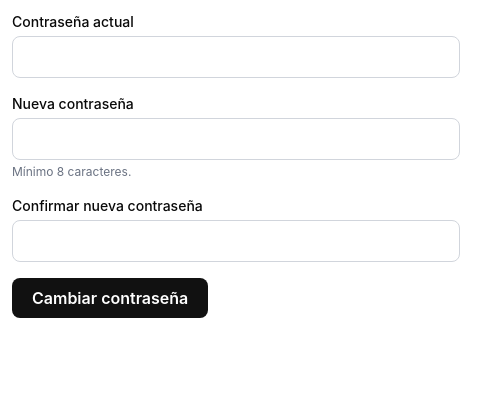
Test case: ChangePasswordForm › todo correcto: confirma el cierre de las demás sesiones
Type "contraseña-vieja" into the password field labelled "Contraseña actual".
click(236, 57); type("contraseña-vieja")  # box [12,36,460,78]
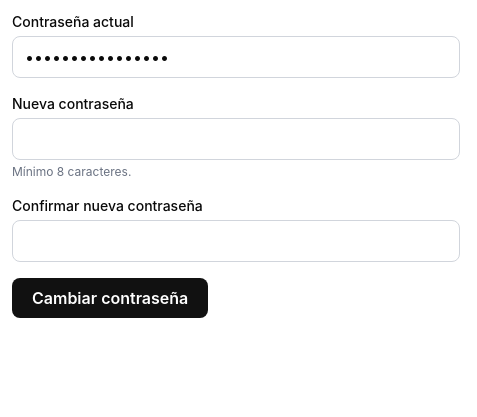
Type "contraseña-nueva-123" into the password field labelled "Nueva contraseña".
click(236, 139); type("contraseña-nueva-123")  # box [12,118,460,160]
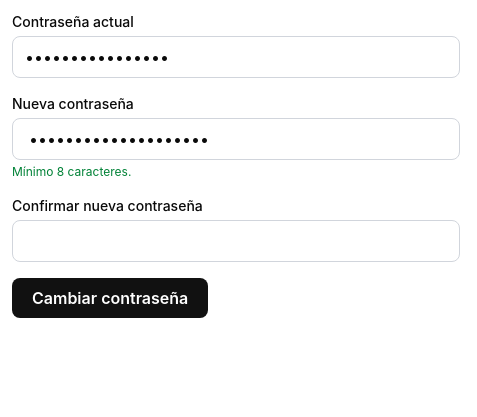
Type "contraseña-nueva-123" into the password field labelled "Confirmar nueva contraseña".
click(236, 241); type("contraseña-nueva-123")  # box [12,220,460,262]
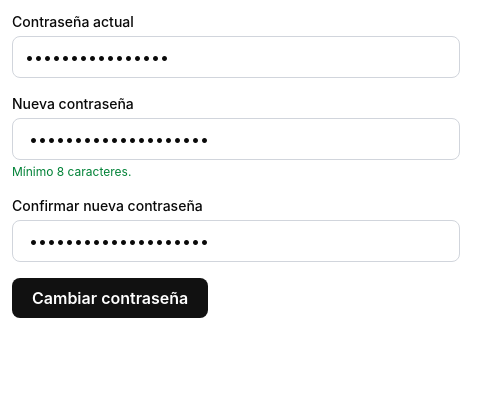
Submit the form
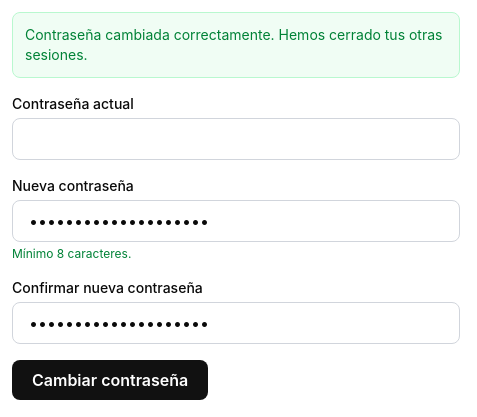
Expected: the text "Contraseña cambiada correctamente. Hemos cerrado tus otras sesiones." is shown, [12,12,460,78]
